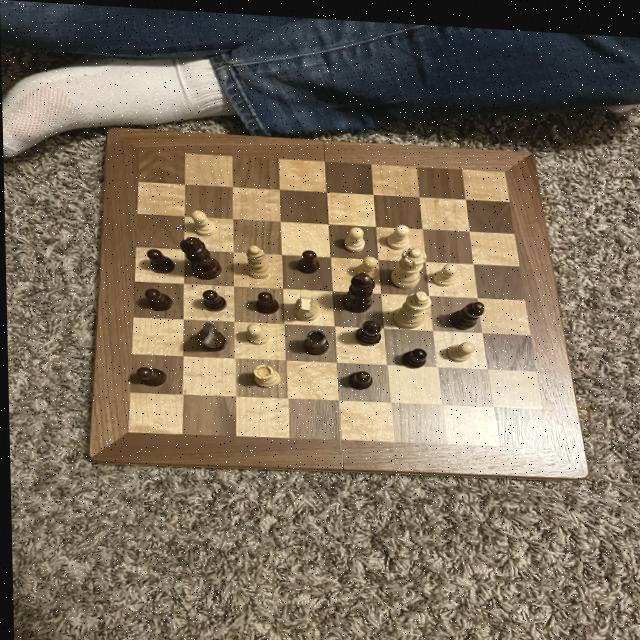bishop: (440, 291, 487, 328), (349, 311, 387, 348)
black-bishop: (334, 265, 381, 314)
black-king: (186, 317, 228, 353)
black-knight: (288, 242, 326, 273), (338, 363, 376, 393), (394, 339, 430, 367), (130, 363, 167, 388), (144, 245, 175, 274), (198, 284, 228, 313), (142, 285, 175, 311), (251, 285, 280, 314)
black-pawn: (175, 230, 225, 282)
black-queen: (297, 325, 336, 354)
black-rook: (242, 241, 274, 281)
white-bishop: (385, 283, 433, 329)
white-king: (286, 282, 322, 322)
white-knight: (440, 332, 478, 363), (186, 206, 221, 238), (429, 254, 461, 286), (382, 217, 411, 249), (240, 318, 272, 347), (339, 220, 368, 251), (352, 250, 383, 278)
white-pawn: (383, 239, 429, 289)
white-queen: (245, 357, 285, 389)
